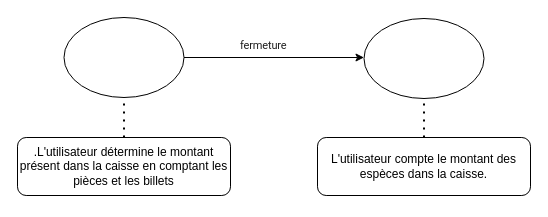
Image size: 548x217. Some labels were removed from this diagram. Here are the shapes that lost their labels. From the top down, the centre of each, then its label:
the point at 123,57: Overt
the point at 423,58: Fermée
